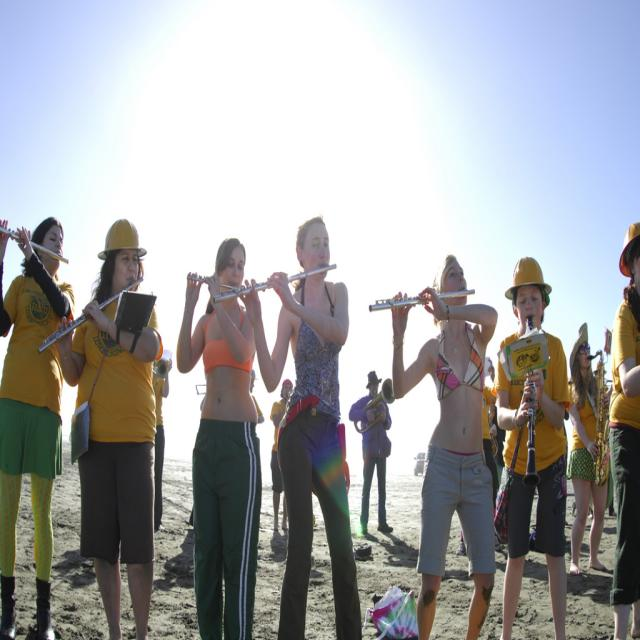clarinet: (521, 313, 539, 492)
saxophone: (586, 350, 613, 488)
